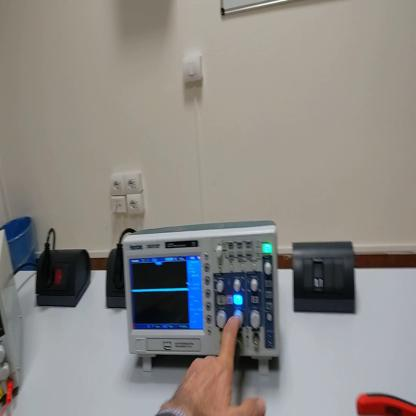hand: (156, 316, 267, 416)
oscilloscope: (121, 213, 289, 373)
pliers: (353, 389, 416, 414)
power supply: (2, 225, 26, 400)
socket: (37, 243, 92, 306), (106, 250, 127, 310)
